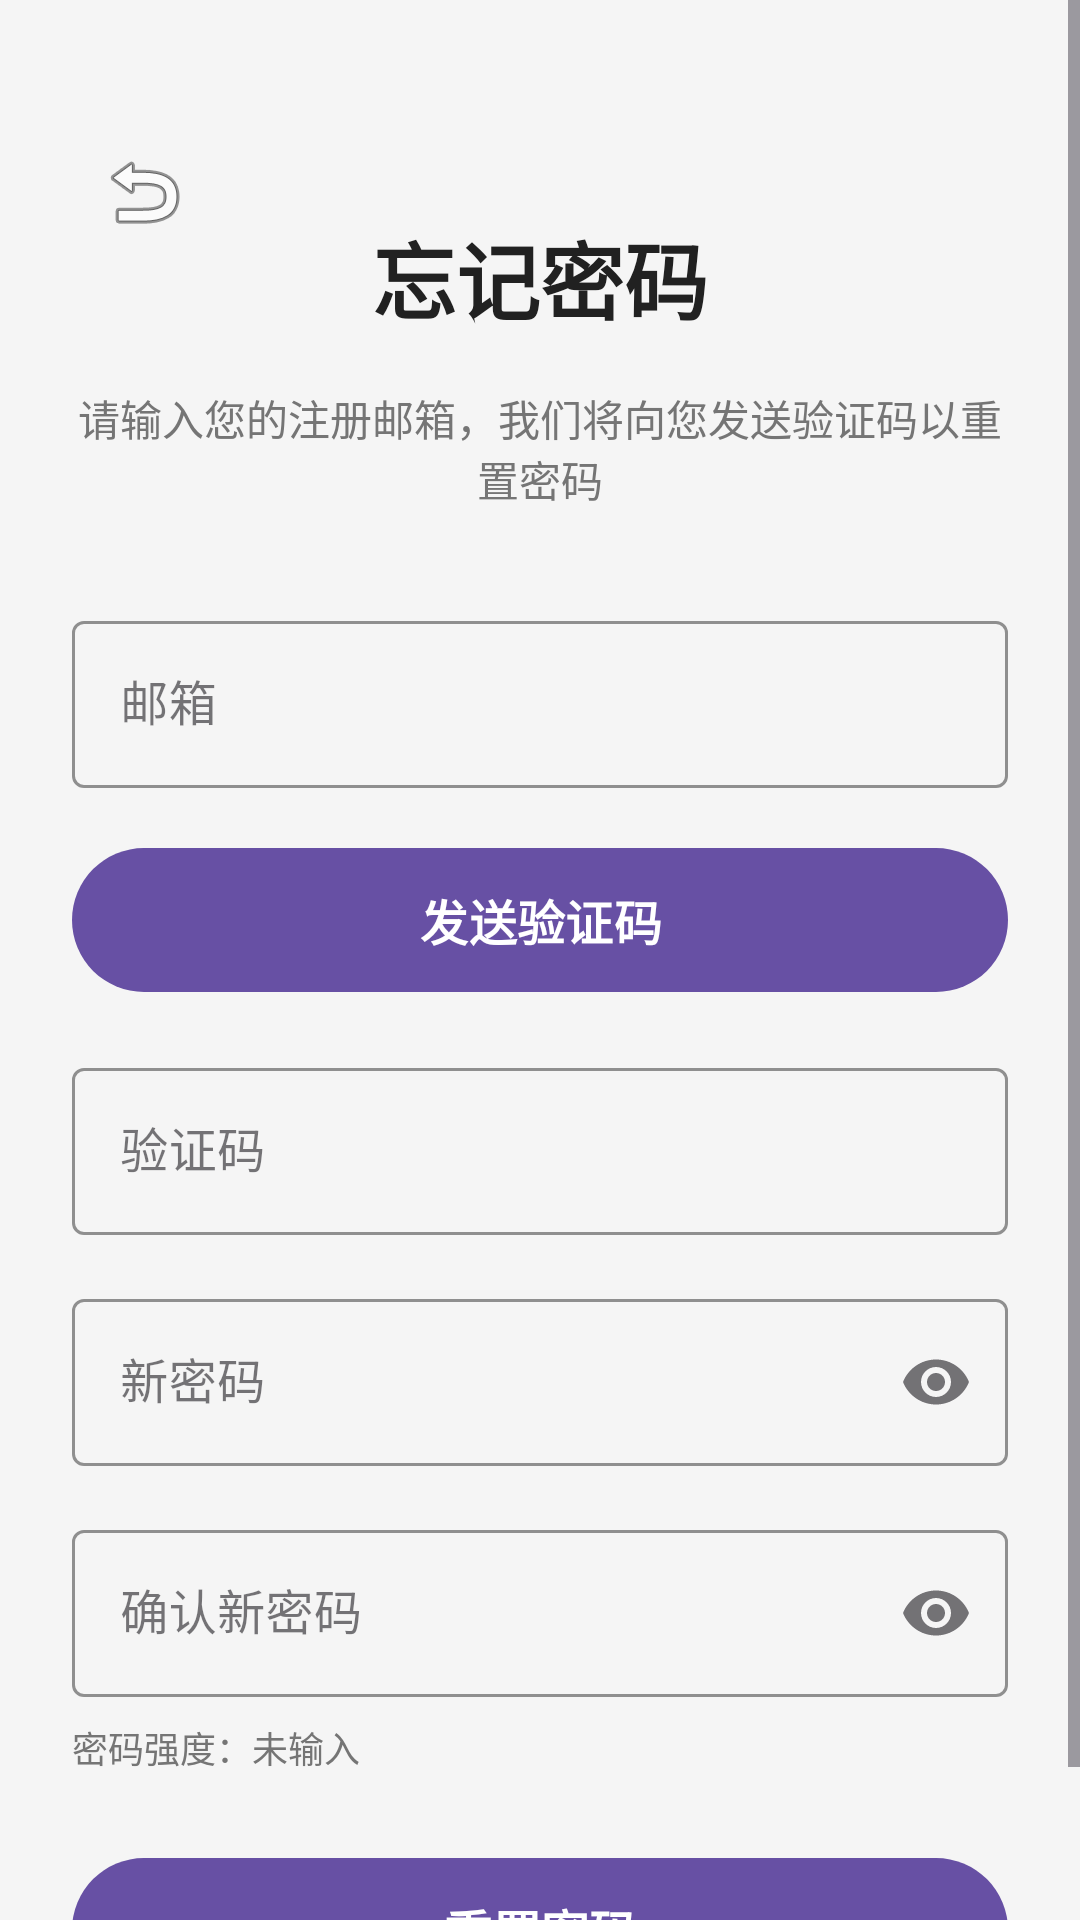

Icons on this 1080px×1920px Android screen, each with the point to tap as point (x, y):
revert: point (145, 192)
